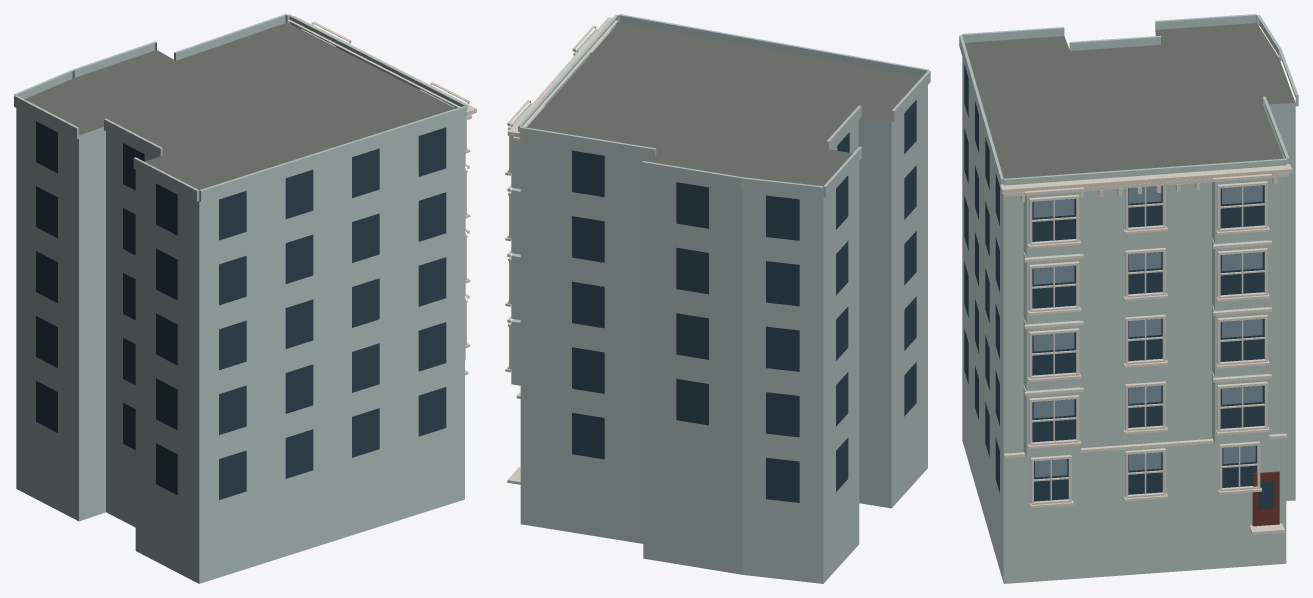
The picture shows the model from 3 angles, left to right: view 1: azimuth 30°, elevation 25°; view 2: azimuth 150°, elevation 25°; view 3: azimuth 270°, elevation 25°; orthographic projection. The views are drawn at different scales.
Parts seen in each view (by area): view 1: Footprint 0 / surface 2, Footprint 0 / surface 1, Inset glazing, Facade bay volumes, Cornices and window frames; view 2: Footprint 0 / surface 2, Footprint 0 / surface 1, Inset glazing, Facade bay volumes, Cornices and window frames; view 3: Footprint 0 / surface 2, Footprint 0 / surface 1, Cornices and window frames, Inset glazing, Facade bay volumes, Sky reflection panels, Storefronts and doors.
Boxes of the visible parts, x1,y1,x2,y2 form: Footprint 0 / surface 2: [16, 108, 464, 583]; Footprint 0 / surface 1: [24, 22, 455, 189]; Inset glazing: [36, 121, 446, 499]; Facade bay volumes: [14, 14, 467, 360]; Cornices and window frames: [288, 16, 476, 375]; Footprint 0 / surface 2: [520, 85, 927, 583]; Footprint 0 / surface 1: [527, 23, 921, 186]; Inset glazing: [572, 100, 916, 502]; Facade bay volumes: [511, 14, 930, 385]; Cornices and window frames: [505, 17, 617, 484]; Footprint 0 / surface 2: [962, 30, 1295, 583]; Footprint 0 / surface 1: [964, 23, 1295, 178]; Cornices and window frames: [1000, 164, 1292, 534]; Inset glazing: [964, 64, 1274, 509]; Facade bay volumes: [959, 14, 1298, 457]; Sky reflection panels: [1033, 185, 1262, 477]; Storefronts and doors: [1252, 471, 1279, 526].
Bounding box in the file's own units: 16.72 × 18.21 × 13.82.
